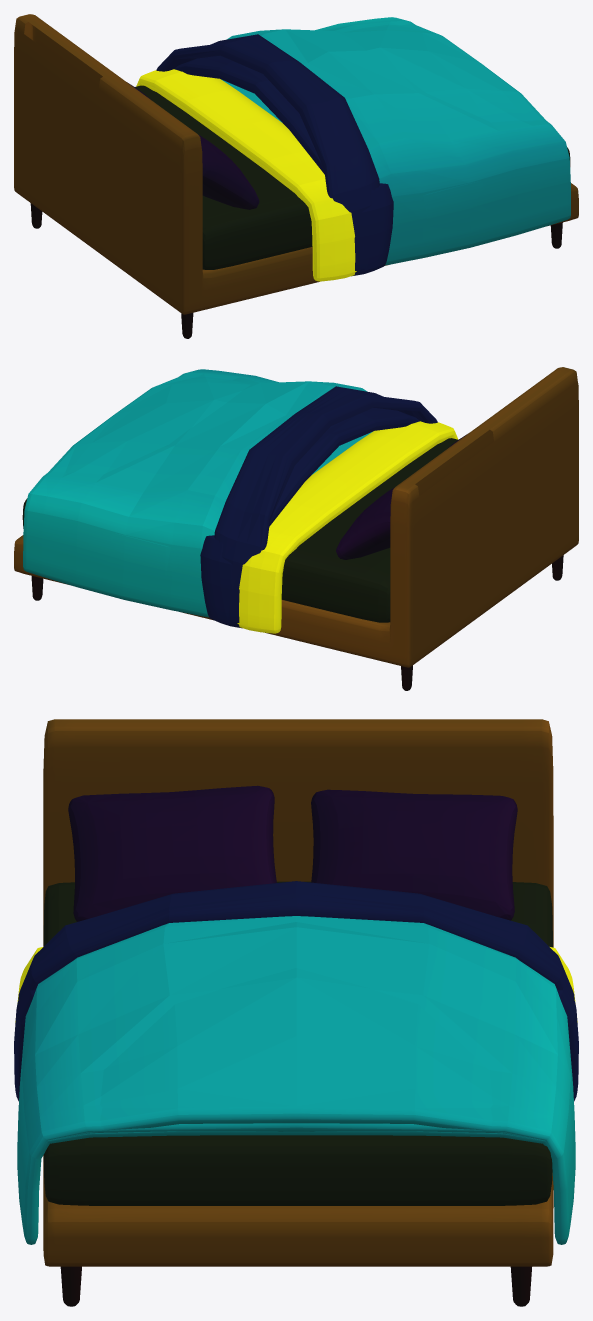
Rendered from bed.glb.
3 renders of one model, top to bottom at view 1: azimuth 30°, elevation 25°; view 2: azimuth 150°, elevation 25°; view 3: azimuth 270°, elevation 25°, orthographic. The views are drawn at different scales.
Visible parts, largest first — view 1: room2_bed, room2_bed_blanket_sleep_couple, room2_bed_blanket_sleep_alone, room2_bed_blanket; view 2: room2_bed, room2_bed_blanket_sleep_couple, room2_bed_blanket_sleep_alone, room2_bed_blanket; view 3: room2_bed, room2_bed_blanket_sleep_couple, room2_bed_blanket_sleep_alone, room2_bed_blanket.
Part boxes in pixels (x1=…): room2_bed: x1=14, y1=14, x2=578, y2=338; room2_bed_blanket_sleep_couple: x1=156, y1=17, x2=570, y2=271; room2_bed_blanket_sleep_alone: x1=174, y1=24, x2=552, y2=276; room2_bed_blanket: x1=136, y1=69, x2=470, y2=281; room2_bed: x1=14, y1=367, x2=578, y2=690; room2_bed_blanket_sleep_couple: x1=23, y1=369, x2=437, y2=623; room2_bed_blanket_sleep_alone: x1=42, y1=376, x2=419, y2=628; room2_bed_blanket: x1=123, y1=421, x2=458, y2=633; room2_bed: x1=43, y1=719, x2=553, y2=1306; room2_bed_blanket_sleep_couple: x1=14, y1=881, x2=578, y2=1244; room2_bed_blanket_sleep_alone: x1=14, y1=968, x2=578, y2=1233; room2_bed_blanket: x1=15, y1=947, x2=577, y2=1184.
Bounding box in the file's own units: 6.27 × 3.14 × 5.18.
Materials: 4 (4 with a texture image).
